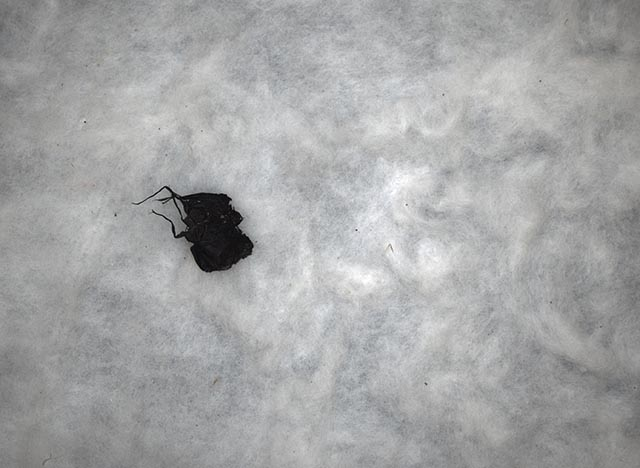plastic film: (131, 185, 254, 274)
